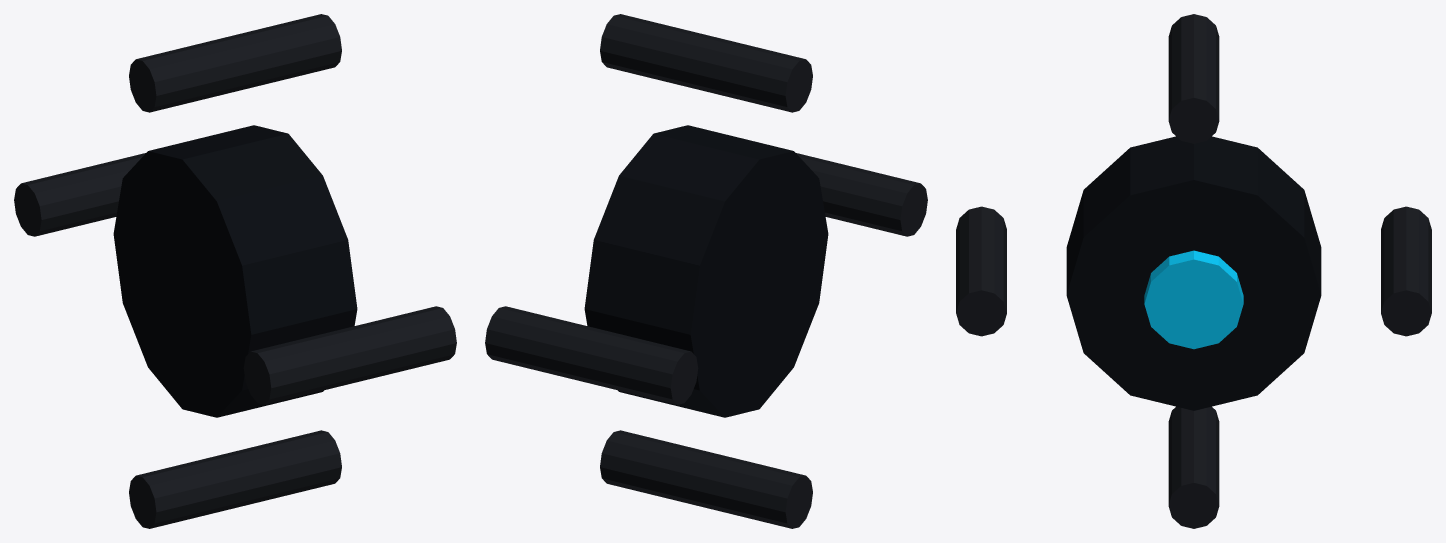
The model's file is orbiter.obj.
The picture shows the model from 3 angles, left to right: view 1: azimuth 30°, elevation 25°; view 2: azimuth 150°, elevation 25°; view 3: azimuth 270°, elevation 25°; orthographic projection. The views are drawn at different scales.
Visible parts, largest first — view 1: orbiter; view 2: orbiter; view 3: orbiter.
Boxes of the visible parts, x1,y1,x2,y2 form: orbiter: [14, 14, 456, 528]; orbiter: [485, 14, 927, 528]; orbiter: [956, 14, 1431, 528].
Bounding box in the file's own units: 1.4 × 3.36 × 3.36.
